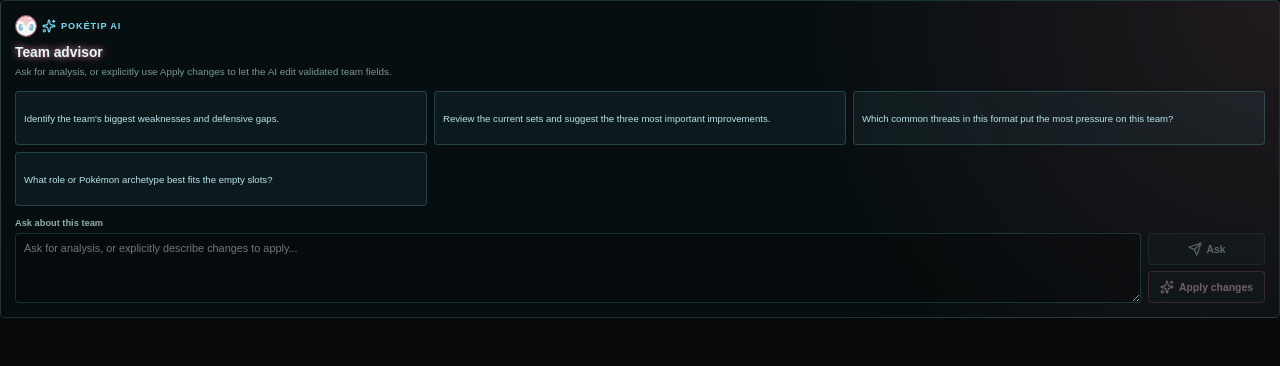
Test: TeamAiAssistant › sends the six team slots and selected format for grounded analysis
Click the button "Identify the team's biggest weaknesses and defensive gaps.".
click(221, 118)  # box [15, 91, 427, 145]
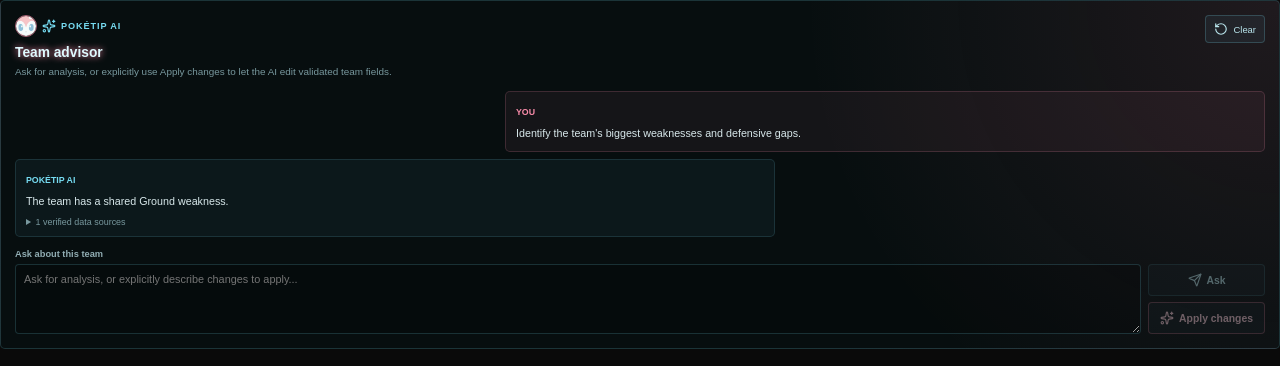
Expected: the text "The team has a shared Ground weakness." is shown, [26, 195, 229, 207]
